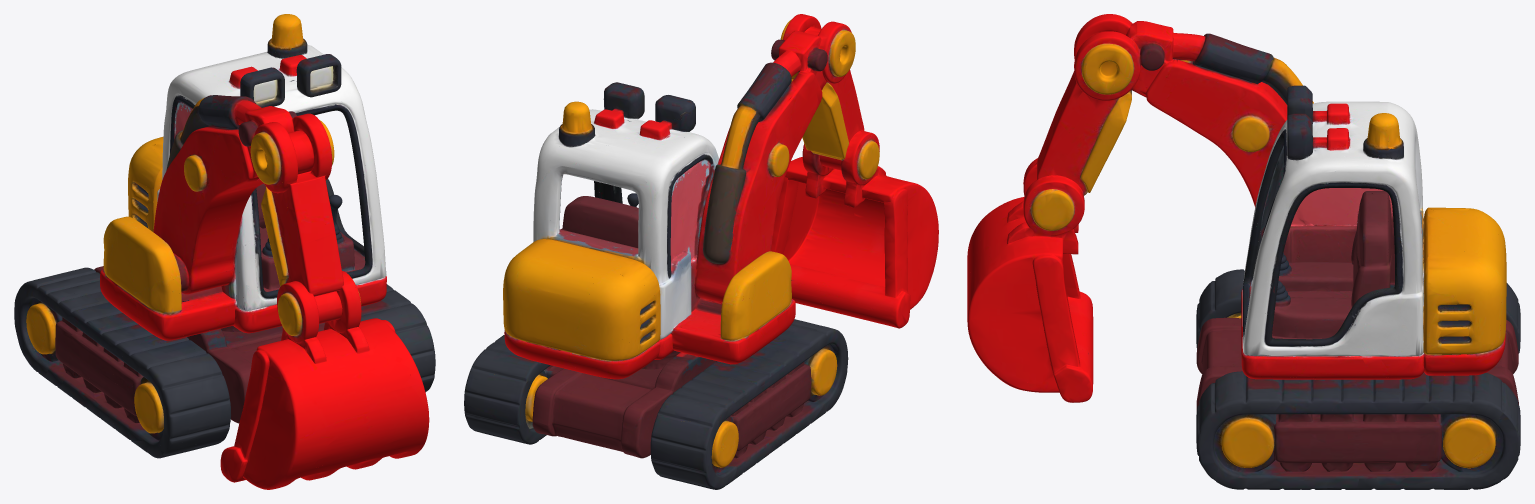
The model's file is excavator-red.glb.
The picture shows the model from 3 angles, left to right: view 1: azimuth 30°, elevation 25°; view 2: azimuth 150°, elevation 25°; view 3: azimuth 270°, elevation 25°; orthographic projection. The views are drawn at different scales.
Parts seen in each view (by area): view 1: tripo_part_1, tripo_part_5, tripo_part_3, tripo_part_0, tripo_part_6, tripo_part_4, tripo_part_2, tripo_part_16, tripo_part_8, tripo_part_13, tripo_part_18, tripo_part_14 (+4 smaller); view 2: tripo_part_1, tripo_part_0, tripo_part_3, tripo_part_8, tripo_part_5, tripo_part_4, tripo_part_6, tripo_part_16, tripo_part_2, tripo_part_7, tripo_part_23, tripo_part_9 (+4 smaller); view 3: tripo_part_0, tripo_part_2, tripo_part_1, tripo_part_5, tripo_part_8, tripo_part_15, tripo_part_16, tripo_part_4, tripo_part_7, tripo_part_11, tripo_part_3, tripo_part_17 (+6 smaller).
Part boxes in pixels (x1,y1,x2,y2): tripo_part_1: [153, 95, 343, 323]; tripo_part_5: [243, 271, 429, 489]; tripo_part_3: [14, 267, 230, 458]; tripo_part_0: [157, 14, 386, 333]; tripo_part_6: [100, 216, 242, 340]; tripo_part_4: [55, 266, 325, 423]; tripo_part_2: [360, 284, 435, 392]; tripo_part_16: [220, 320, 395, 482]; tripo_part_8: [128, 137, 163, 231]; tripo_part_13: [296, 54, 341, 97]; tripo_part_18: [240, 67, 284, 107]; tripo_part_14: [261, 186, 288, 286]; tripo_part_1: [694, 14, 864, 303]; tripo_part_0: [533, 101, 719, 359]; tripo_part_3: [650, 319, 848, 489]; tripo_part_8: [503, 239, 660, 360]; tripo_part_5: [783, 131, 938, 309]; tripo_part_4: [532, 352, 811, 458]; tripo_part_6: [641, 251, 795, 369]; tripo_part_16: [771, 177, 910, 328]; tripo_part_2: [464, 335, 552, 444]; tripo_part_7: [561, 196, 638, 247]; tripo_part_23: [670, 159, 713, 262]; tripo_part_9: [504, 330, 660, 379]; tripo_part_0: [1241, 101, 1424, 379]; tripo_part_2: [1196, 371, 1520, 489]; tripo_part_1: [1037, 14, 1313, 207]; tripo_part_5: [967, 158, 1084, 392]; tripo_part_8: [1423, 207, 1506, 354]; tripo_part_15: [1273, 421, 1442, 462]; tripo_part_16: [1032, 253, 1093, 402]; tripo_part_4: [1196, 317, 1518, 410]; tripo_part_7: [1351, 191, 1391, 307]; tripo_part_11: [1272, 281, 1351, 338]; tripo_part_3: [1196, 269, 1520, 353]; tripo_part_17: [1291, 188, 1392, 225].
Size of the model in its own units: 2.02 by 2.62 by 3.53.
Materials: 26 (26 with a texture image).
